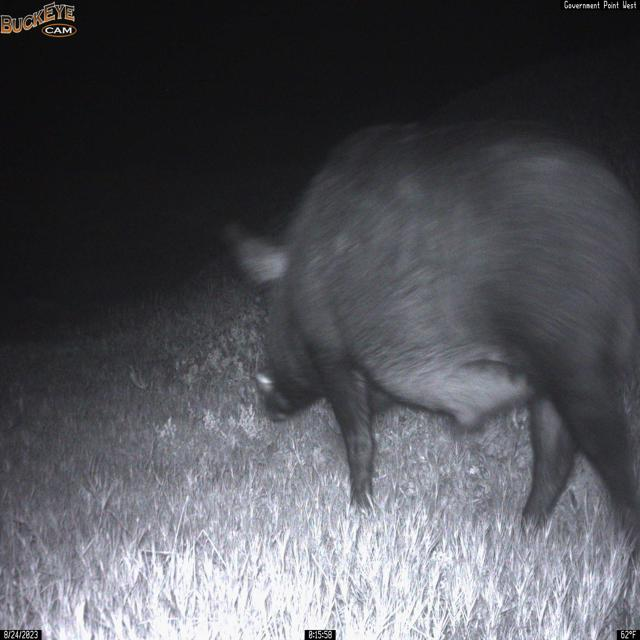pig: (224, 115, 640, 564)
